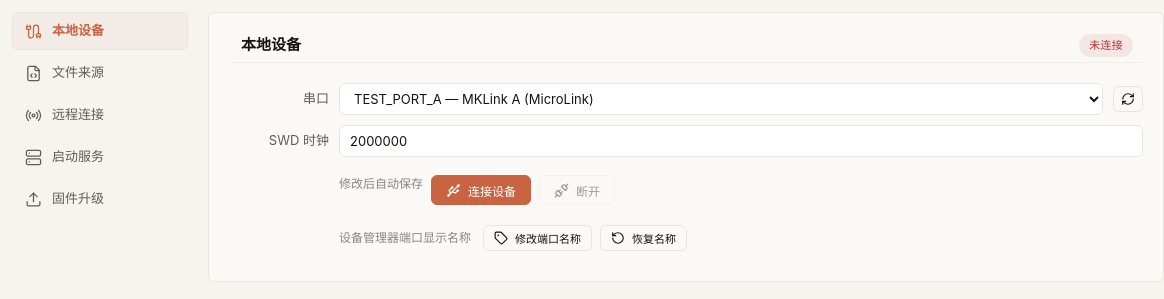
it: ConfigView › falls back to Auto Search after a restored connection fails
Click the button with test id "connect-local" at [481, 190], box [431, 175, 531, 205]
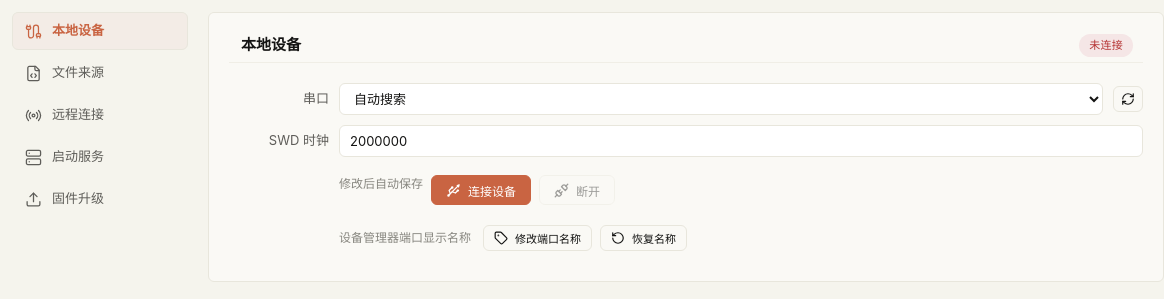
Expected: the dropdown with test id "local-port" shows "自动搜索", [339, 83, 1103, 115]
Click the button with test id "connect-local" at [481, 190], box [431, 175, 531, 205]
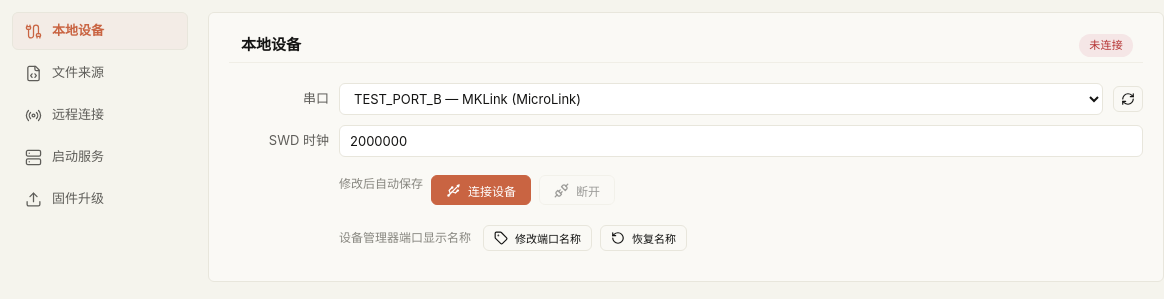
Expected: the dropdown with test id "local-port" shows "TEST_PORT_B — MKLink (MicroLink)", [339, 83, 1103, 115]
